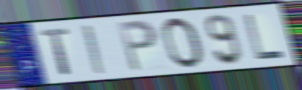9: (206, 13, 243, 67)
I: (80, 23, 108, 76)
L: (242, 13, 286, 61)
O: (161, 16, 206, 71)
P: (116, 18, 159, 74)
T: (39, 26, 73, 77)
